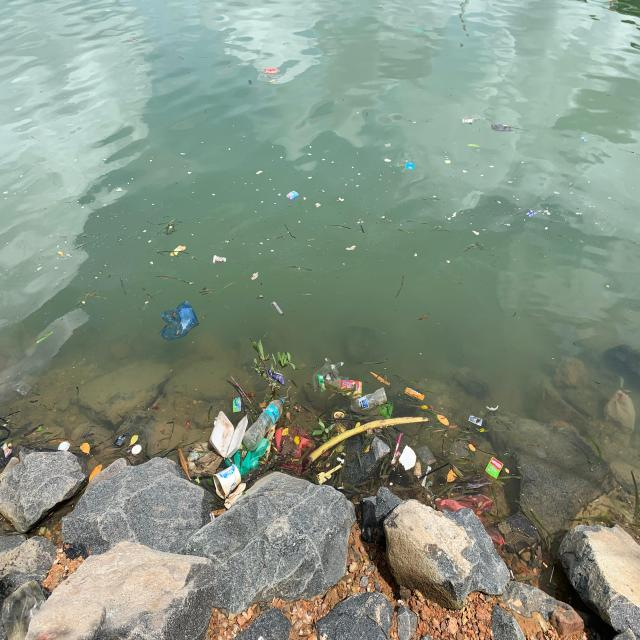Botol Plastik: (244, 398, 287, 452), (352, 388, 389, 413)
Bungkus Makanan: (209, 411, 249, 460), (214, 464, 243, 500), (341, 380, 364, 400), (486, 457, 505, 481), (268, 369, 287, 388), (405, 387, 427, 403), (491, 122, 515, 136), (171, 244, 188, 259), (469, 415, 484, 428), (2, 443, 13, 459)
Bungkus Minuman: (213, 255, 228, 266)
Kantong Plastik: (161, 300, 201, 341), (314, 357, 349, 397), (230, 440, 271, 473), (258, 73, 282, 86), (13, 381, 32, 397), (262, 65, 285, 77)
